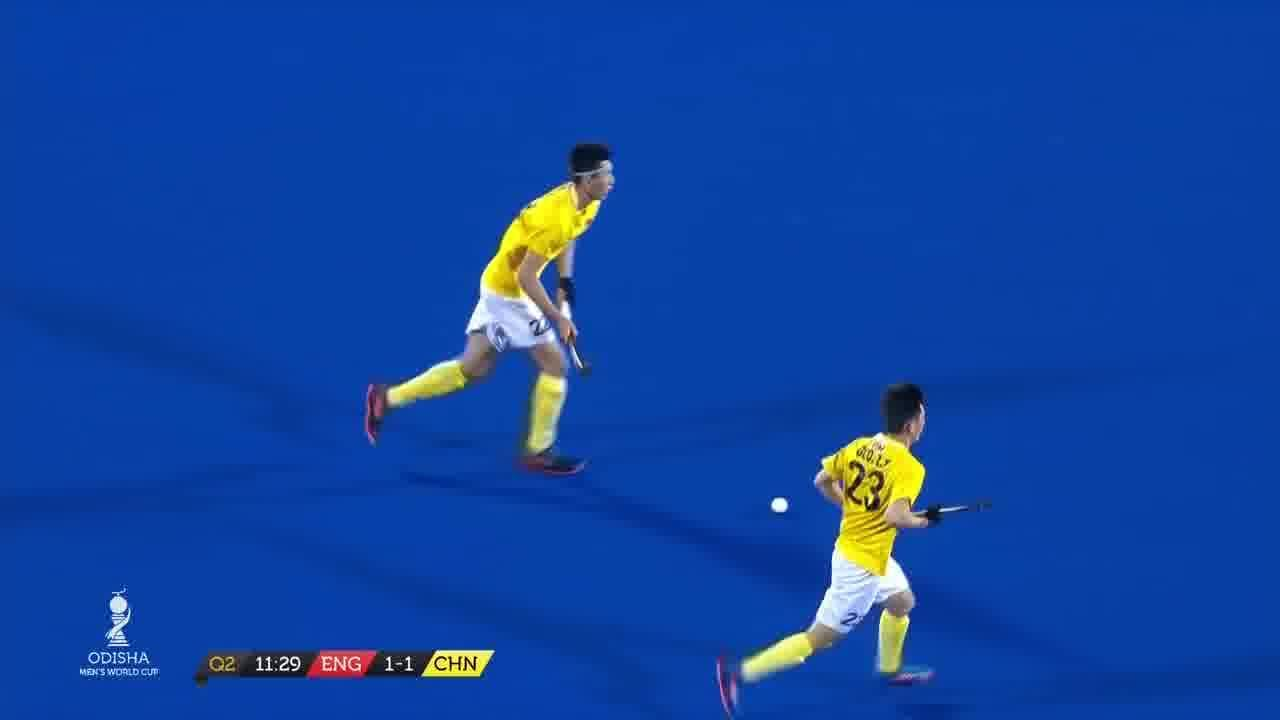ball: (761, 485, 794, 522)
